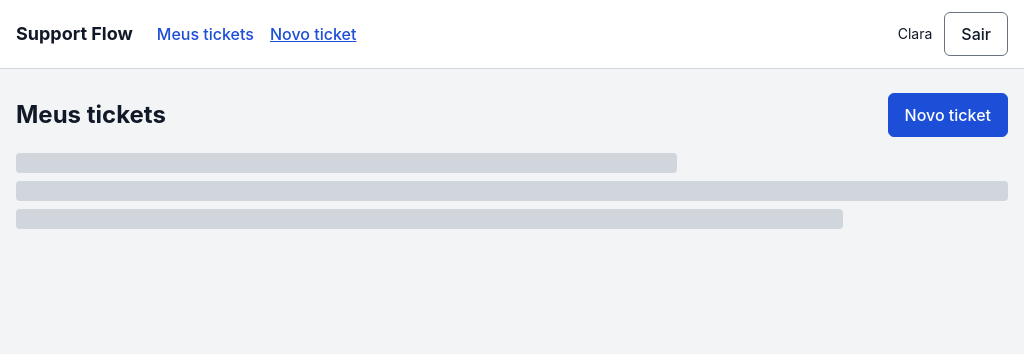
Scenario: sessão e rotas › logout que falha avisa e mantém a pessoa logada
Click the button "Sair" at (976, 34), box [944,12,1008,56]
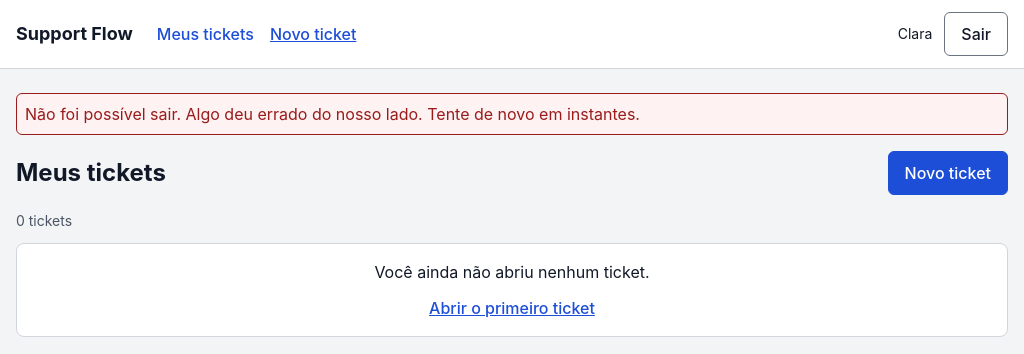
Expected: the heading "Meus tickets" is shown, [16,157,166,189]
Expected: the 1st message shows "Não foi possível sair", [25,104,640,124]
